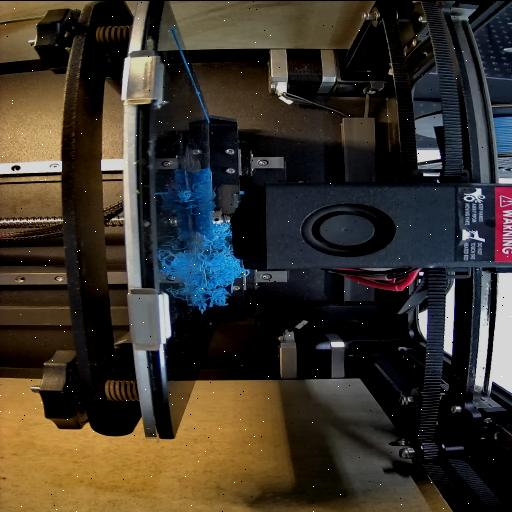spaghetti: (198, 224, 242, 310), (180, 181, 218, 216)
